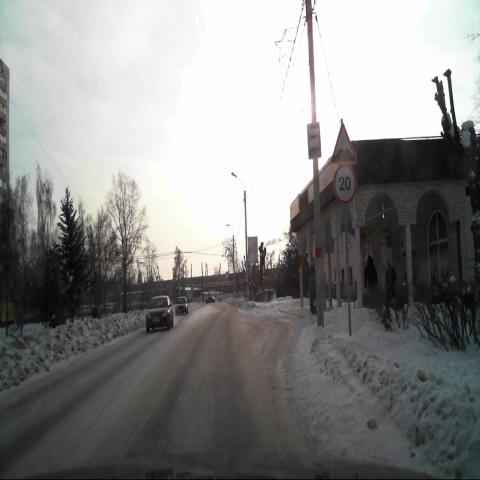1_16: (332, 118, 356, 165)
